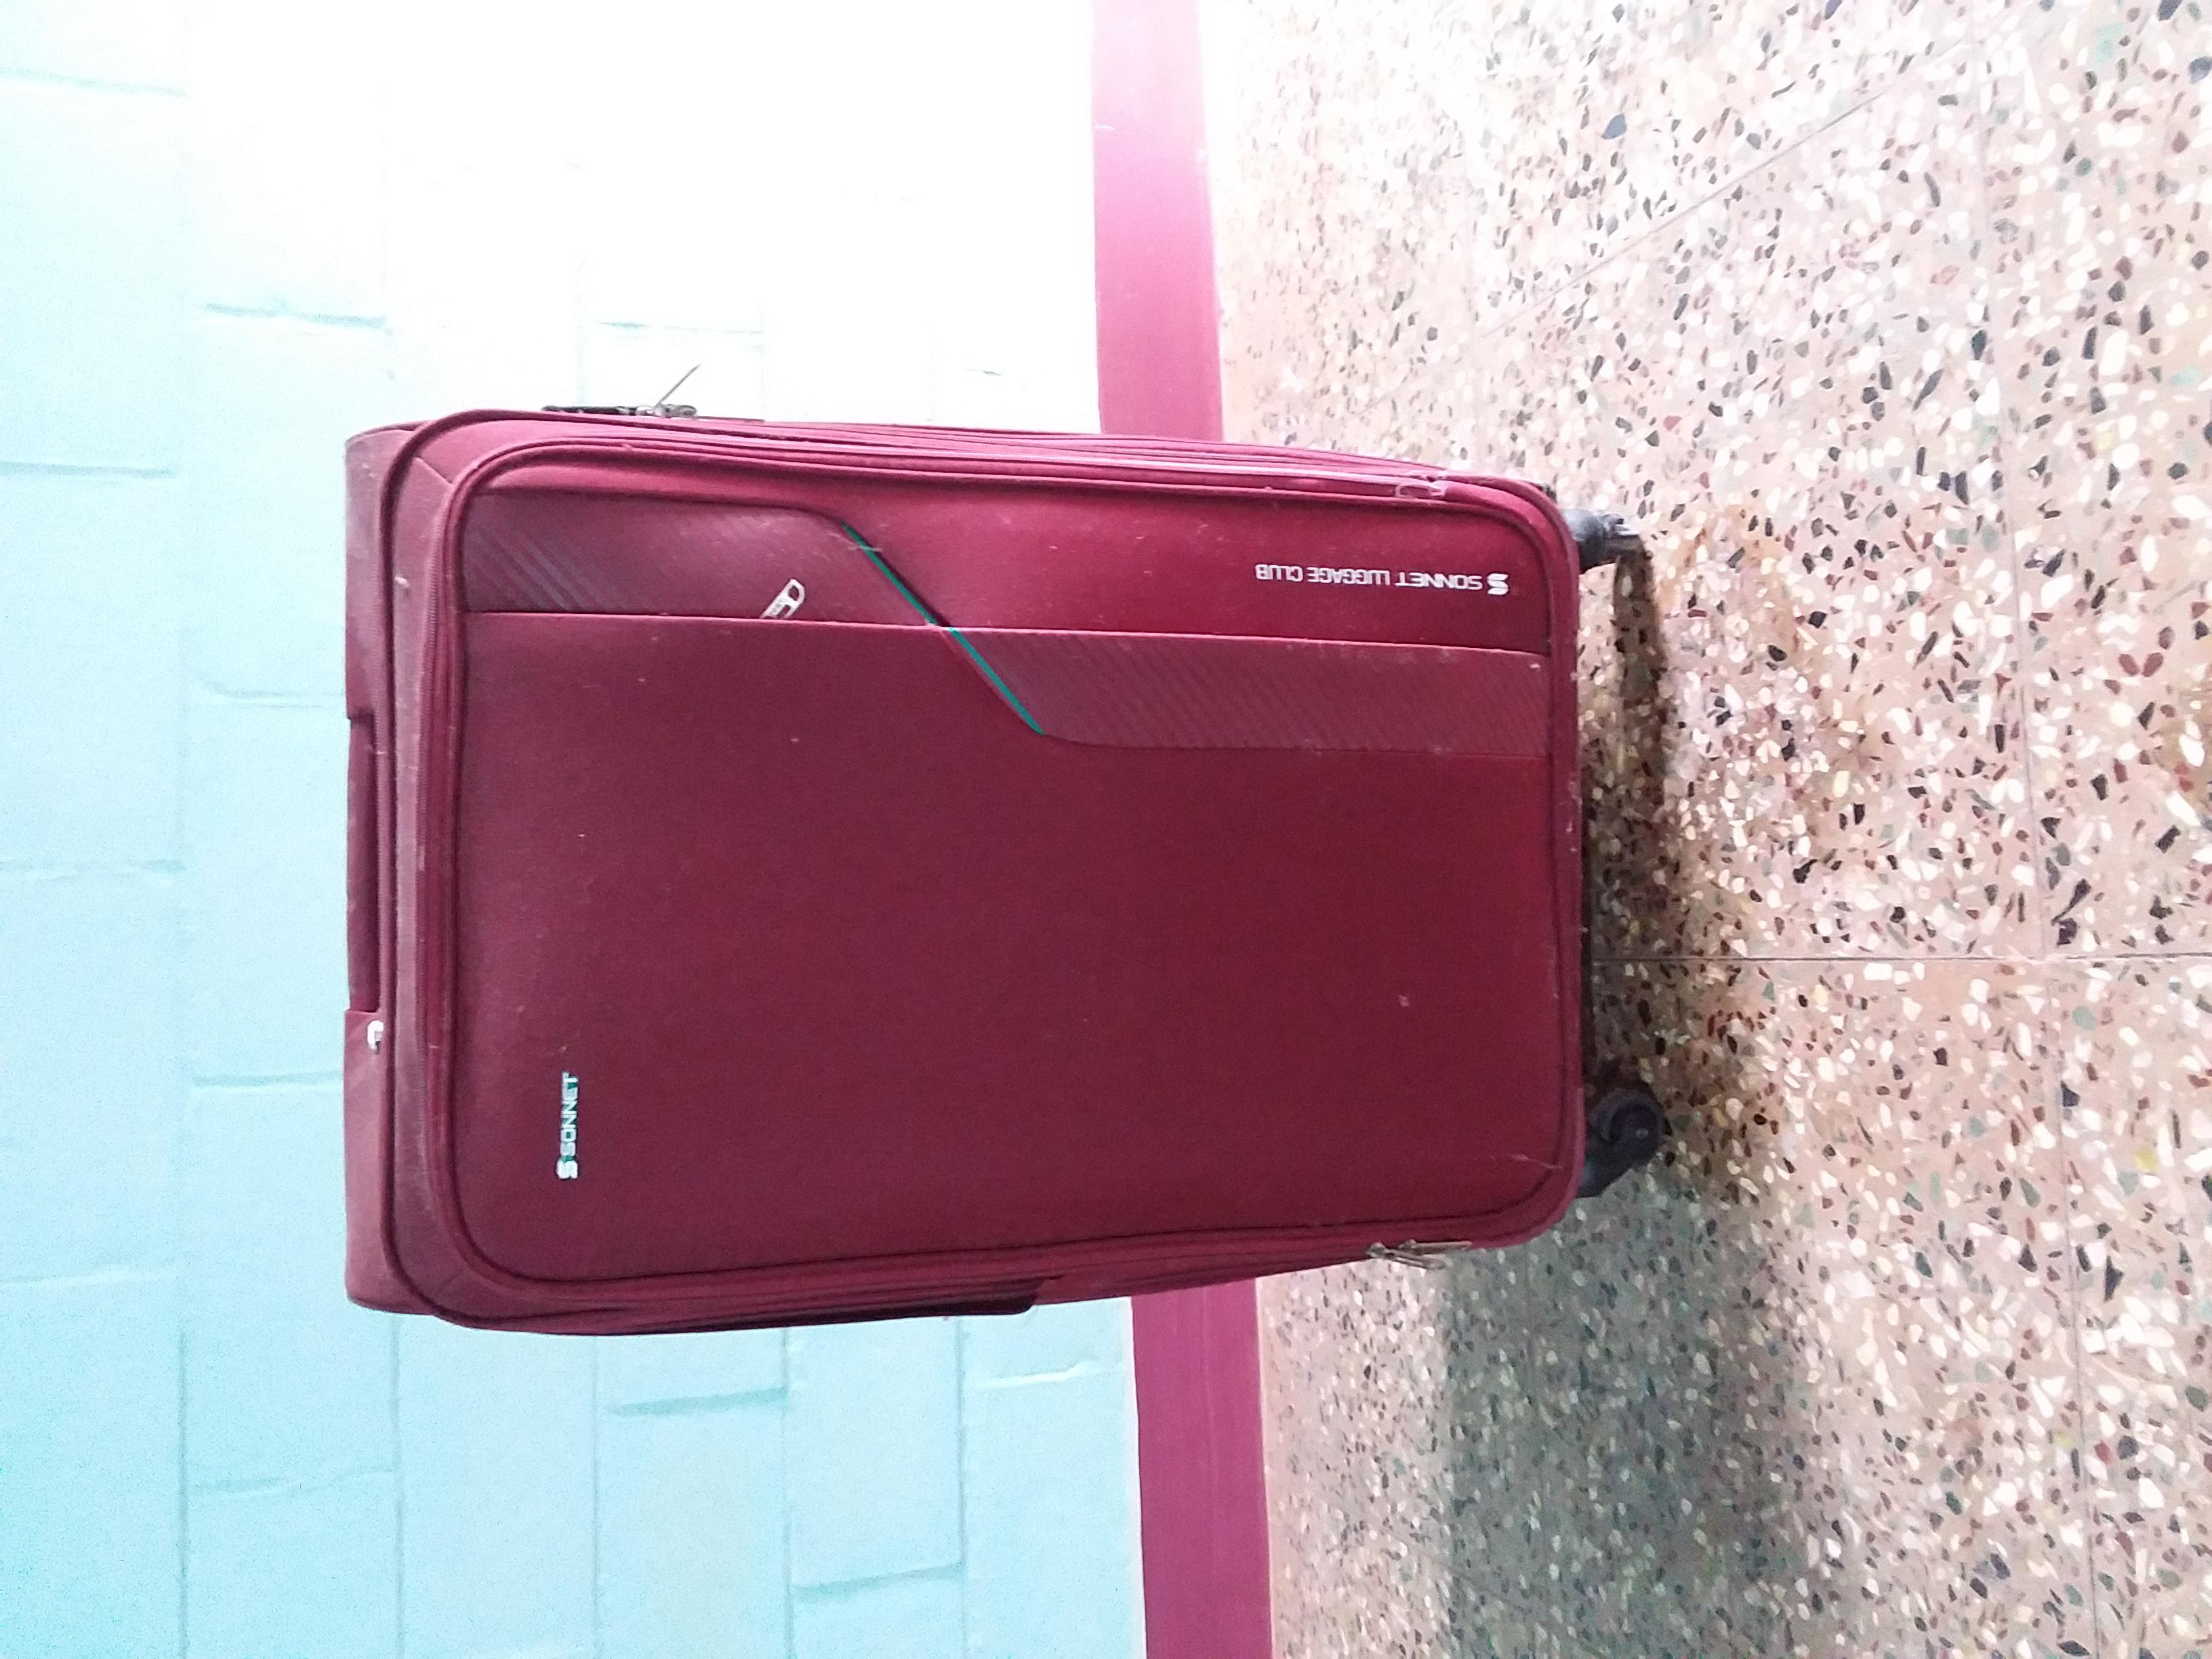suitcase: (427, 258, 1679, 1249)
